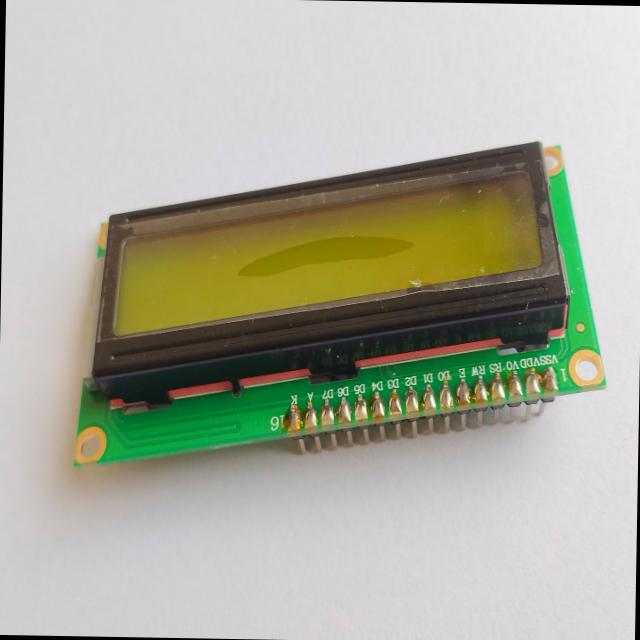lcd: (71, 130, 612, 478)
